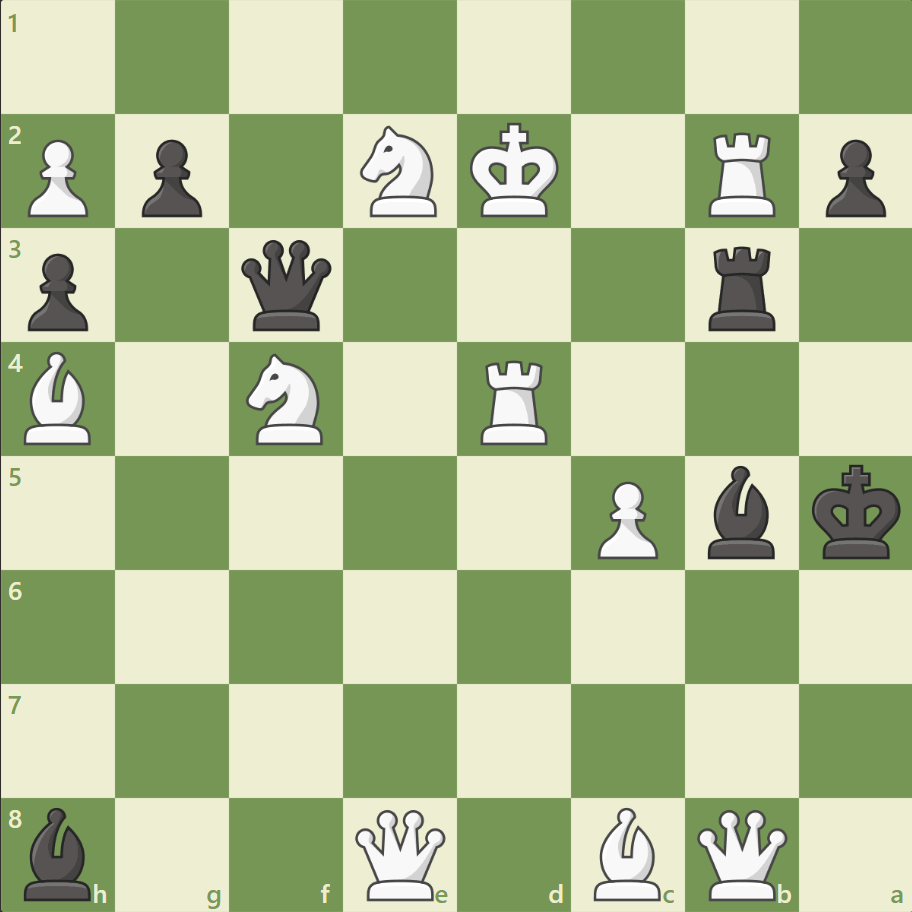B: (585, 801, 669, 904), (17, 347, 101, 449)
K: (465, 117, 565, 225)
N: (351, 121, 449, 223), (238, 348, 335, 450)
P: (20, 132, 95, 223), (588, 473, 662, 564)
Q: (691, 804, 790, 903), (351, 804, 450, 903)
R: (473, 352, 556, 449), (700, 125, 783, 222)
b: (17, 801, 101, 904), (698, 460, 782, 563)
k: (806, 458, 906, 566)
p: (20, 246, 95, 337), (133, 132, 208, 223), (815, 132, 889, 223)
q: (237, 236, 336, 335)
r: (700, 239, 783, 336)
